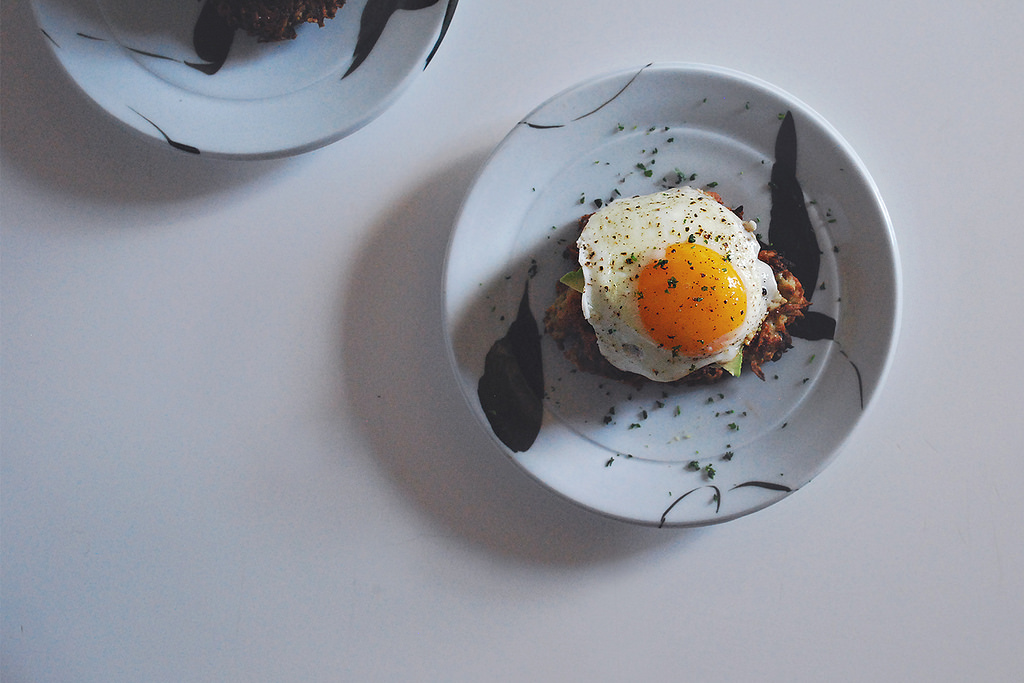fried egg: (585, 195, 764, 366)
